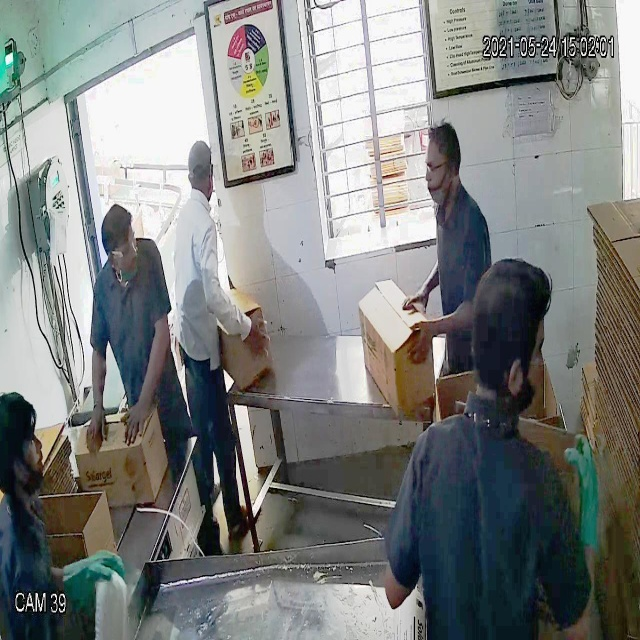Gafas: (103, 227, 141, 266), (421, 151, 454, 181)
